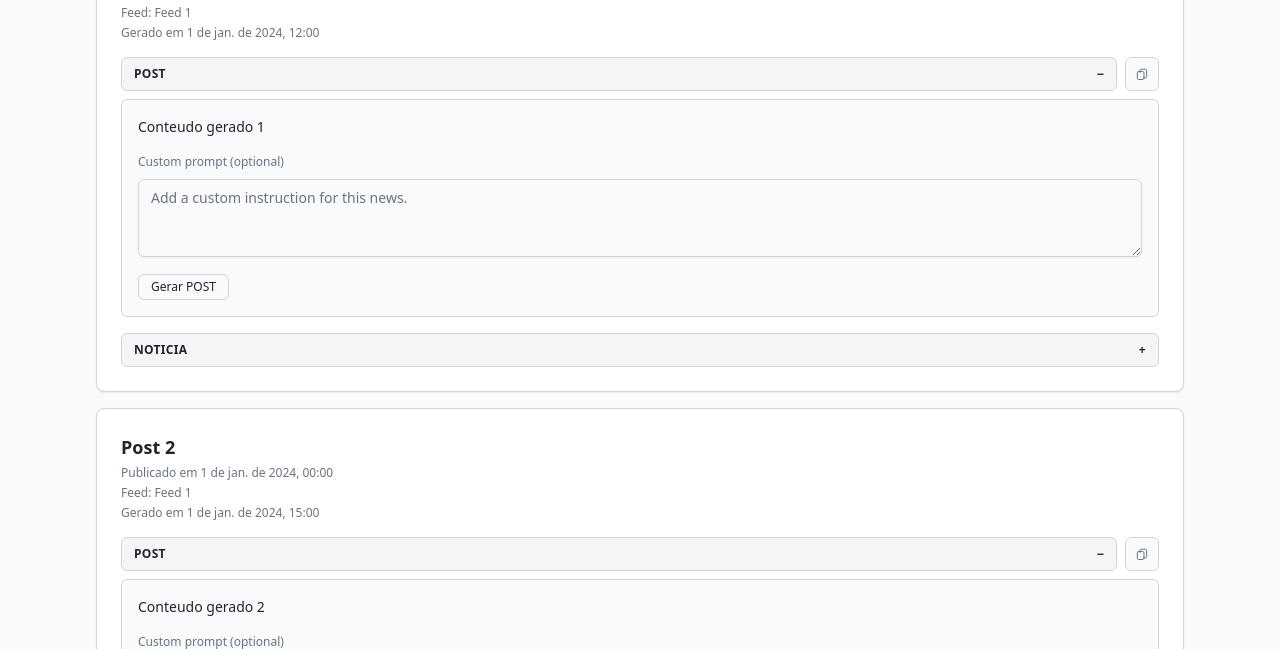
PostsPage › renders sections with POST open and NOTICIA closed by default and toggles correctly
(page scrolled)
Expected: the text "Conteudo gerado 1" is shown, [138, 117, 265, 136]
Step 1. Click the button "NOTICIA +" → (161, 349), box [121, 333, 1159, 367]
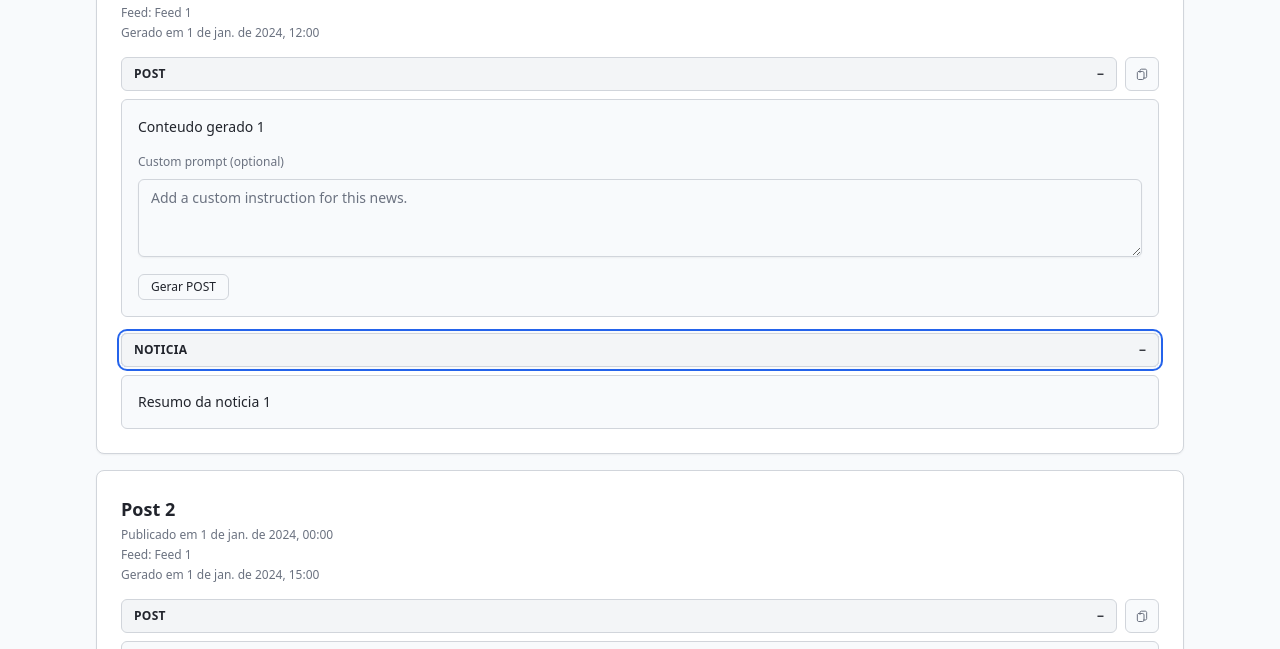
Expected: the text "Resumo da noticia 1" is shown, [138, 392, 271, 411]
Step 2. Click the button "POST −" below "Gerado em 1 de jan. de 2024, 12:00" → (150, 74), box [121, 57, 1117, 91]
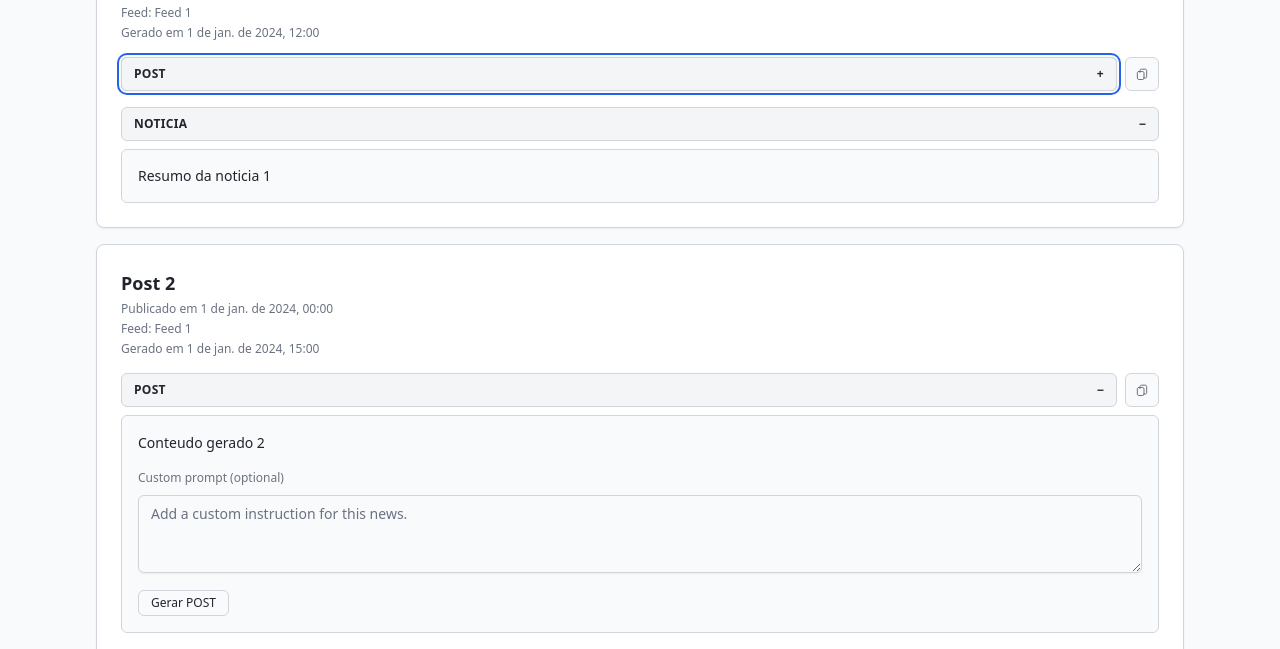
Expected: the text "Conteudo gerado 1" is gone
